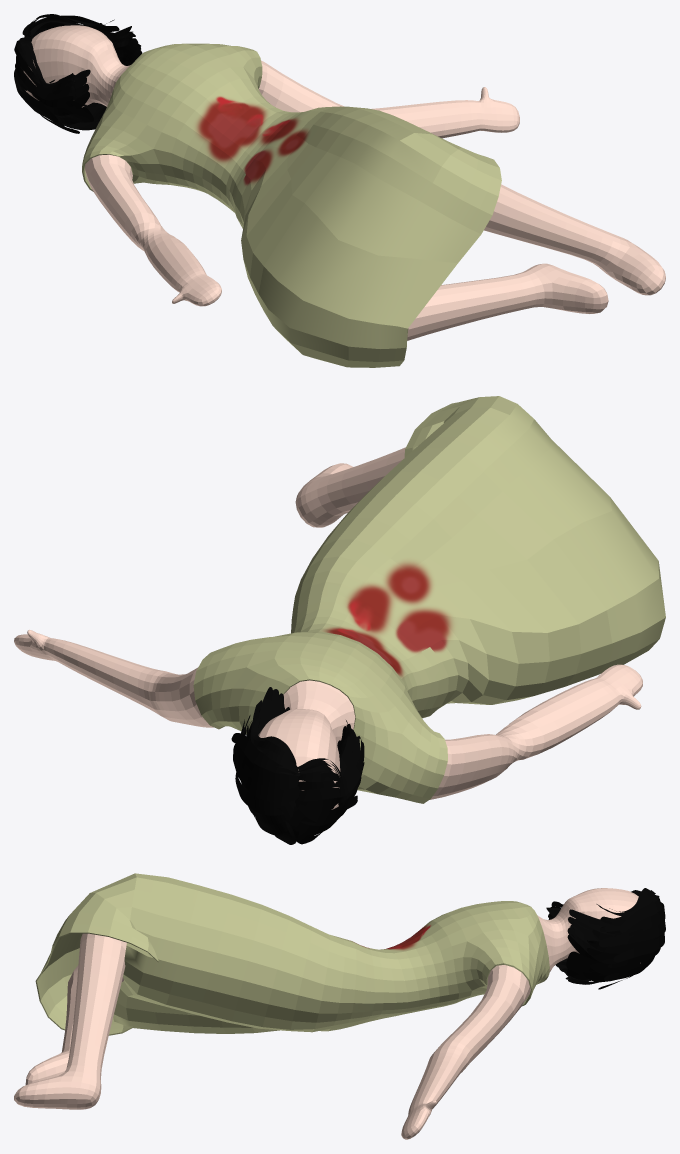
Rendered from victim1.glb.
3 views of the same model, one above another, from view 1: azimuth 30°, elevation 25°; view 2: azimuth 150°, elevation 25°; view 3: azimuth 270°, elevation 25° (orthographic). The views are drawn at different scales.
Visible parts, largest first — view 1: Body.006, Body.005, Hair_Fem_Bob01.001; view 2: Body.006, Body.005, Hair_Fem_Bob01.001; view 3: Body.006, Body.005, Hair_Fem_Bob01.001.
Boxes of the visible parts, bbox=[...] form: Body.006: bbox=[82, 43, 501, 367]; Body.005: bbox=[23, 25, 665, 340]; Hair_Fem_Bob01.001: bbox=[14, 14, 142, 133]; Body.006: bbox=[193, 396, 665, 803]; Body.005: bbox=[14, 447, 642, 809]; Hair_Fem_Bob01.001: bbox=[231, 687, 364, 844]; Body.006: bbox=[35, 873, 549, 1035]; Body.005: bbox=[14, 888, 640, 1139]; Hair_Fem_Bob01.001: bbox=[546, 888, 665, 989].
Bounding box in the file's own units: 16.26 × 6.94 × 22.52.
3 materials, 3 textured.
